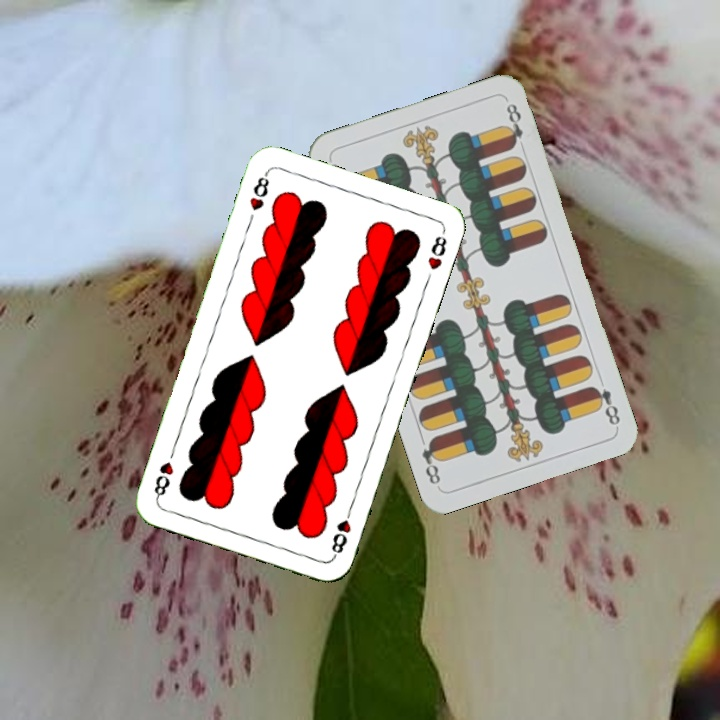E8: (587, 382, 623, 428)
H8: (327, 502, 355, 560), (245, 168, 272, 214)
